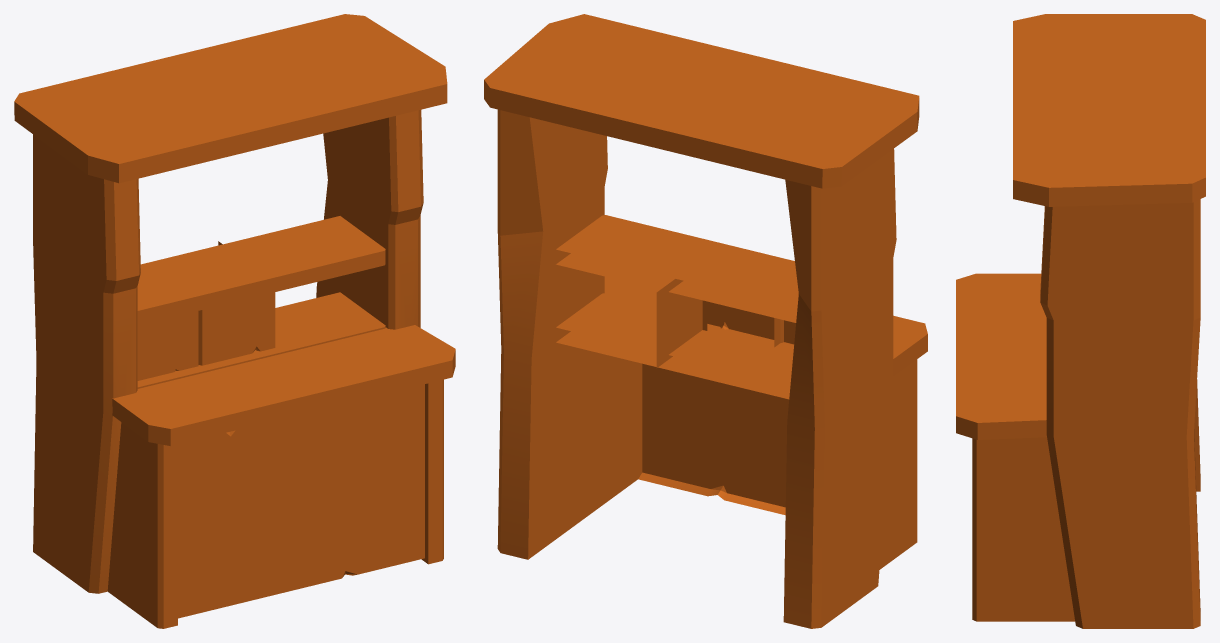
Rendered from Mold_Shelf.fbx.
3 renders of one model, left to right at view 1: azimuth 30°, elevation 25°; view 2: azimuth 150°, elevation 25°; view 3: azimuth 270°, elevation 25°, orthographic. The views are drawn at different scales.
Visible parts, largest first — view 1: Shelf_LP; view 2: Shelf_LP; view 3: Shelf_LP.
Boxes of the visible parts, x1,y1,x2,y2 form: Shelf_LP: [14, 14, 455, 628]; Shelf_LP: [484, 14, 927, 628]; Shelf_LP: [956, 14, 1205, 628].
Size of the model in its own units: 998 by 1210 by 606.
